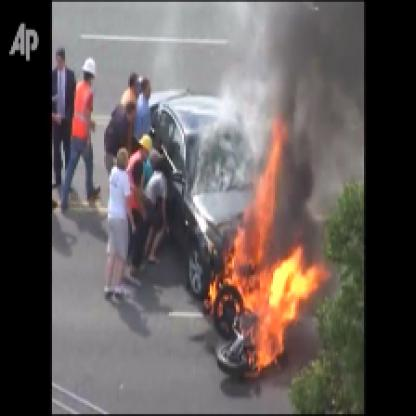Fire: (206, 117, 320, 379)
Smoke: (266, 2, 356, 163)
